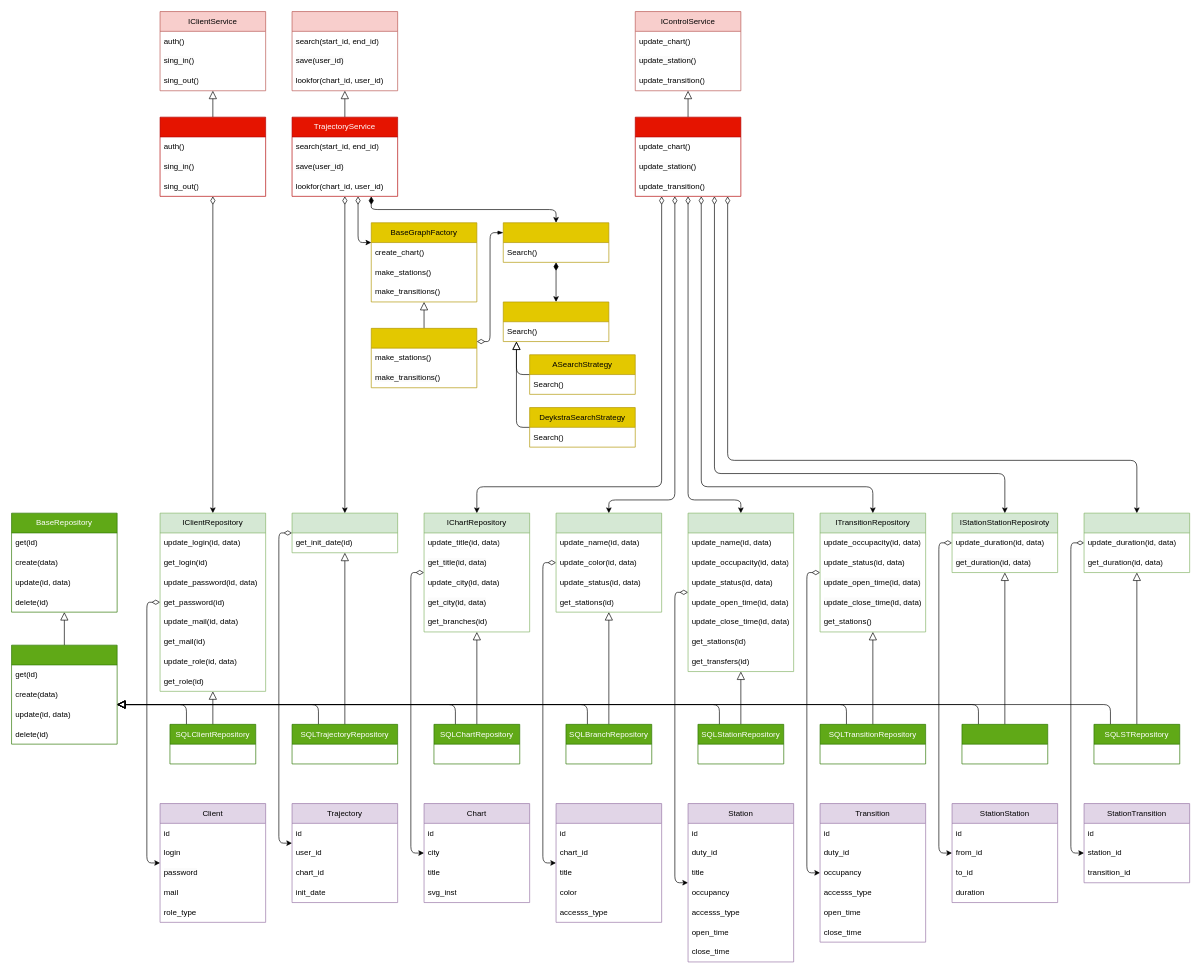
Image size: 1201x974. Some labels were removed from this diagram. Here are the shapes that lost their labels. From the top down, the box of each, then its label:
(291, 11, 398, 91): ITrajectoryService
(159, 116, 266, 196): ClientService
(635, 116, 741, 196): ControlService
(503, 222, 609, 262): Graph
(503, 301, 609, 342): BaseSearchStrategy
(371, 328, 477, 388): GraphFactory
(291, 512, 398, 553): ITrajectoryRepository
(1083, 512, 1190, 573): IStationTransitionTRepository
(555, 512, 662, 612): IBranchRepository
(687, 512, 794, 672): IStationRepository
(11, 644, 117, 744): SQLBaseRepository
(961, 724, 1048, 764): SQLSSRepository
(555, 803, 662, 922): Branch
